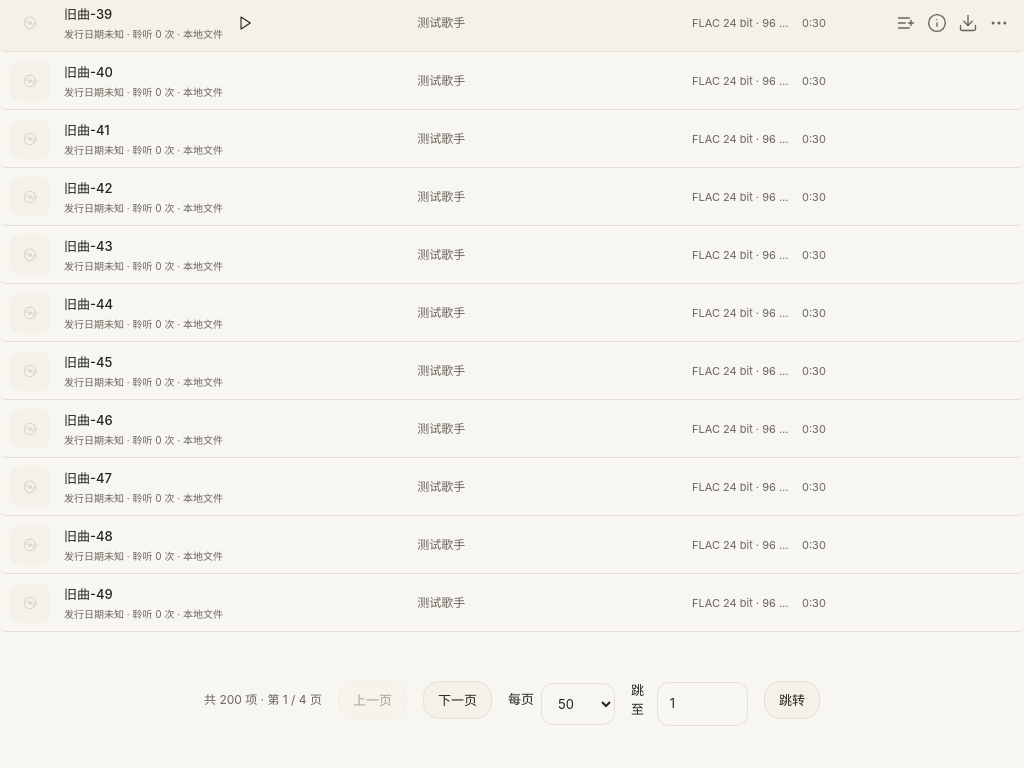
Test case: 曲目分页的请求生命周期 › 切页由用户触发，查询切换后忽略旧分页的401
Later steps or results of the test are not shown.
(page scrolled)
Click the button "下一页" at x=458, y=700, box x1=423 y1=681 x2=492 y2=719
Wait 600 ms
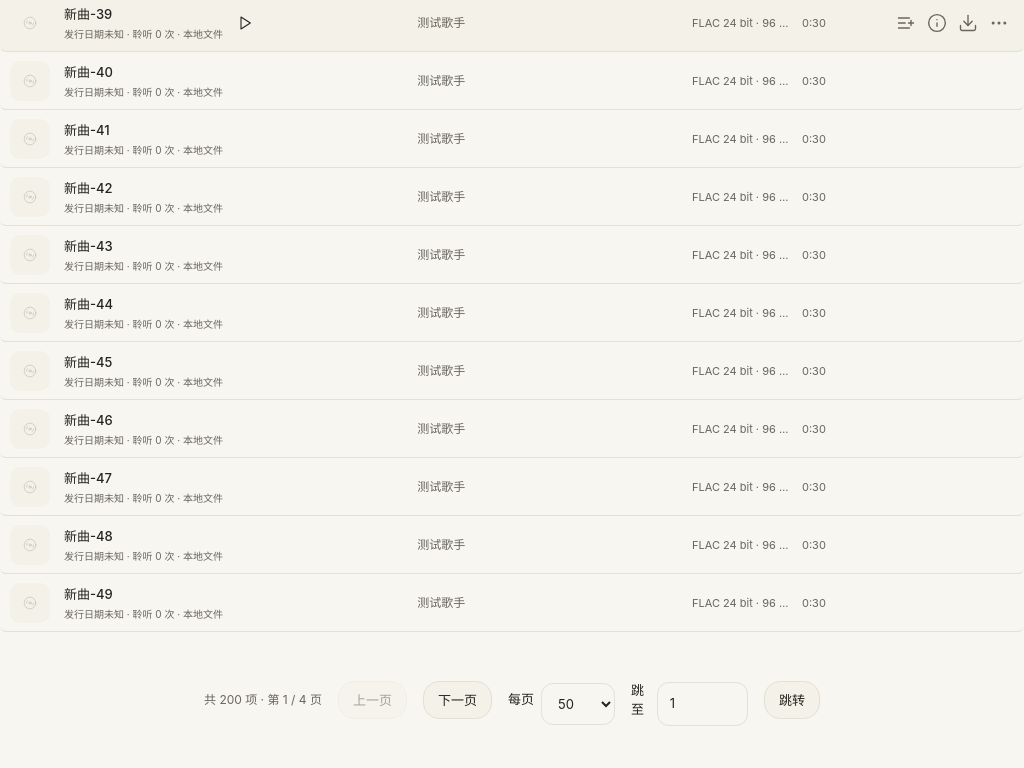
Expected: the text "旧曲-49" is gone
